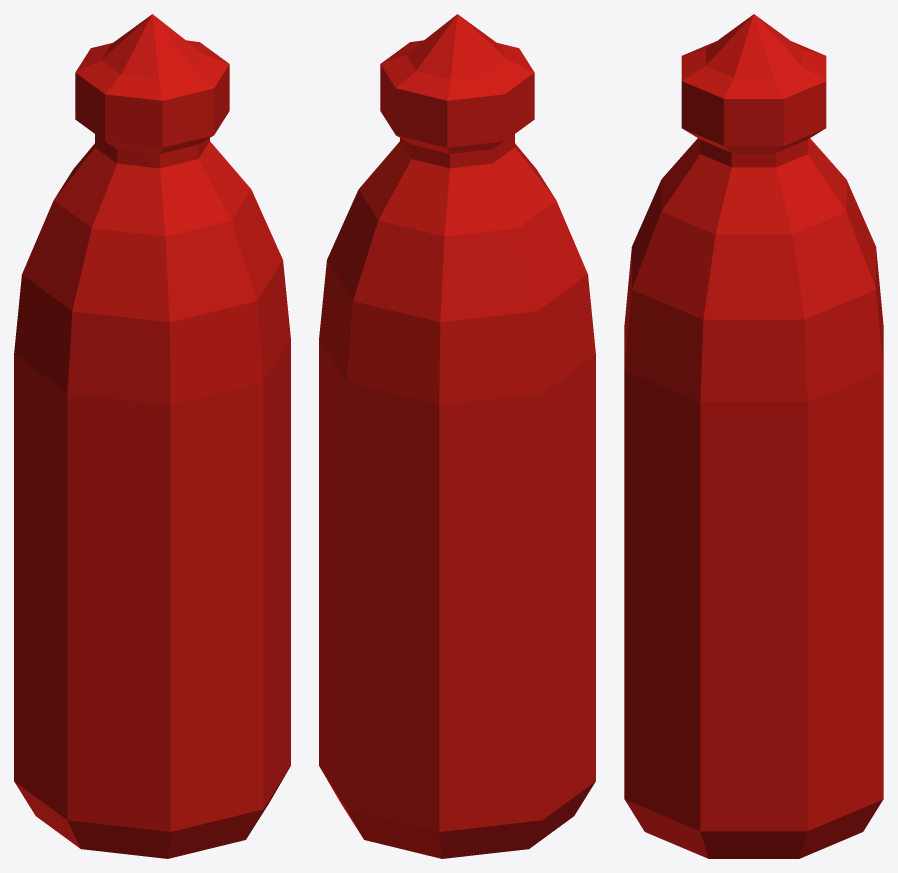
File: SM_Cook_SauceBottle_Chili_01.glb
The picture shows the model from 3 angles, left to right: view 1: azimuth 30°, elevation 25°; view 2: azimuth 150°, elevation 25°; view 3: azimuth 270°, elevation 25°; orthographic projection.
Visible parts, largest first — view 1: SM_Cook_SauceBottle_Chili_01; view 2: SM_Cook_SauceBottle_Chili_01; view 3: SM_Cook_SauceBottle_Chili_01.
Part boxes in pixels (bbox=[...]): SM_Cook_SauceBottle_Chili_01: bbox=[14, 14, 290, 858]; SM_Cook_SauceBottle_Chili_01: bbox=[319, 14, 595, 858]; SM_Cook_SauceBottle_Chili_01: bbox=[624, 14, 883, 858].
Size of the model in its own units: 0.0647 by 0.22 by 0.0647.
Materials: 1 (1 with a texture image).
